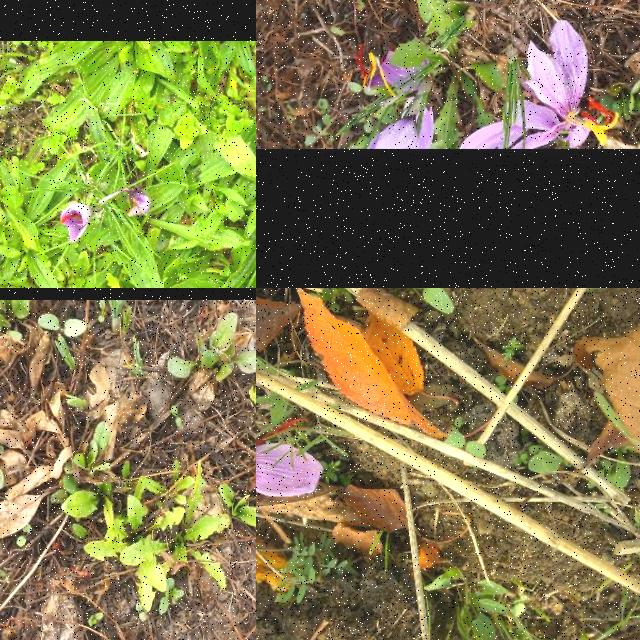flower: (256, 395, 323, 513), (60, 203, 92, 243)
